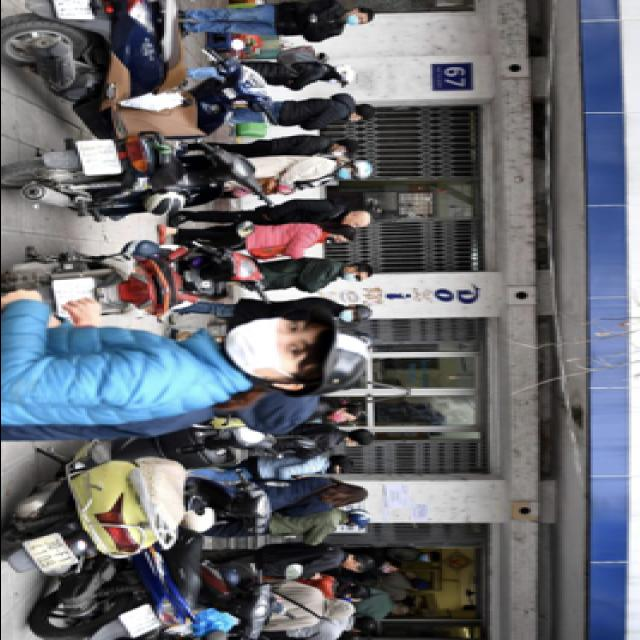mask: (218, 315, 316, 379), (336, 308, 362, 322), (345, 12, 367, 26), (340, 270, 364, 282), (323, 235, 348, 245), (338, 167, 357, 180), (331, 412, 355, 422), (331, 147, 350, 157), (378, 564, 396, 574), (419, 552, 434, 563), (326, 467, 345, 475), (324, 78, 346, 84), (343, 442, 362, 448), (340, 597, 358, 603)
no_mask: (343, 214, 367, 228), (340, 562, 362, 572)
